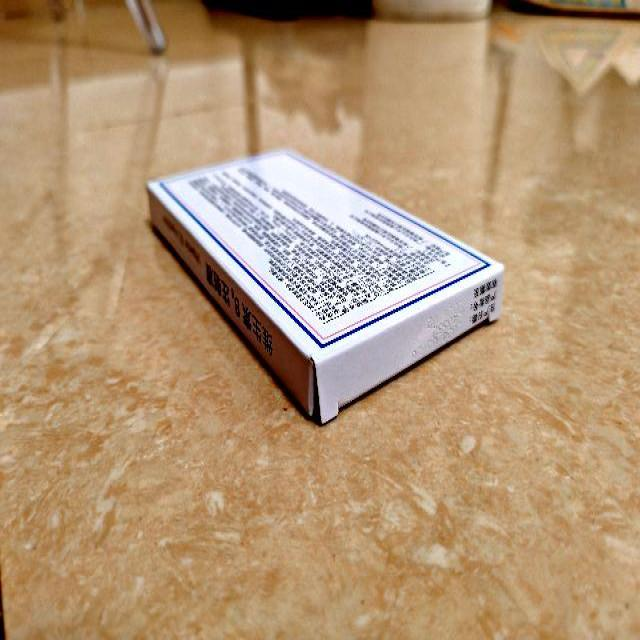box: (146, 147, 504, 426)
